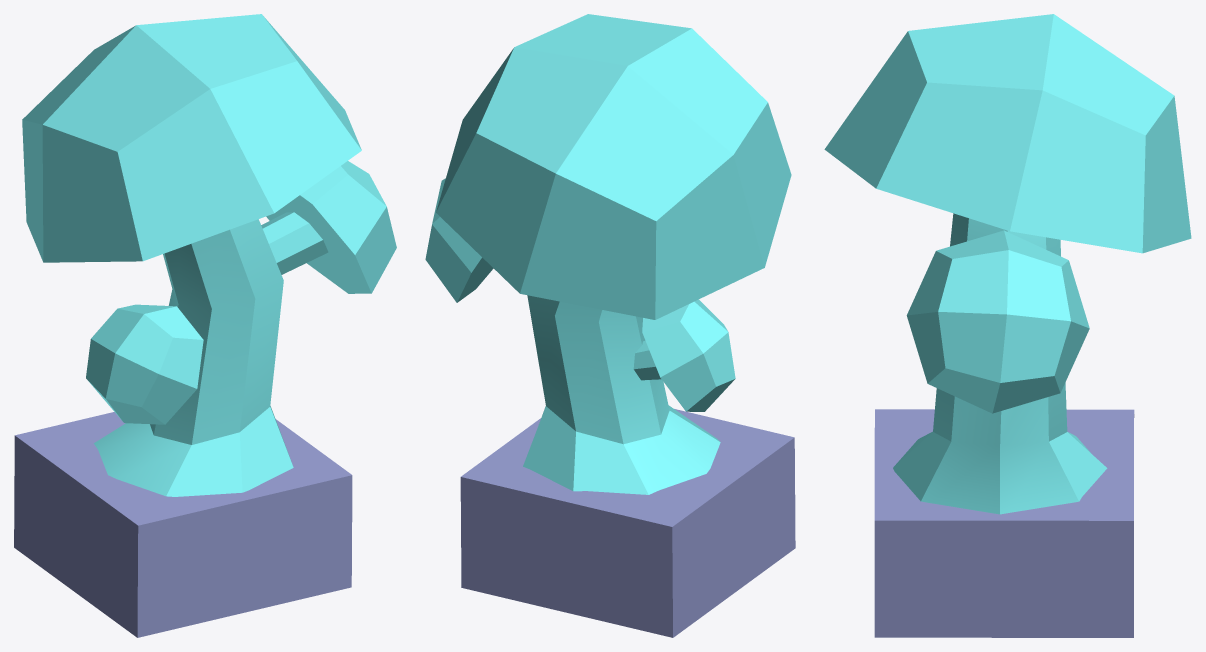
The model's file is mushroomLarge.fbx.
3 views of the same model, side by side, from view 1: azimuth 30°, elevation 25°; view 2: azimuth 150°, elevation 25°; view 3: azimuth 270°, elevation 25° (orthographic). The views are drawn at different scales.
Visible parts, largest first — view 1: mushroomLarge; view 2: mushroomLarge; view 3: mushroomLarge.
Part boxes in pixels (left/top/right/bottom): mushroomLarge: left=14, top=14, right=396, bottom=637; mushroomLarge: left=425, top=14, right=795, bottom=637; mushroomLarge: left=824, top=14, right=1191, bottom=637.
Size of the model in its own units: 314 by 474 by 283.
